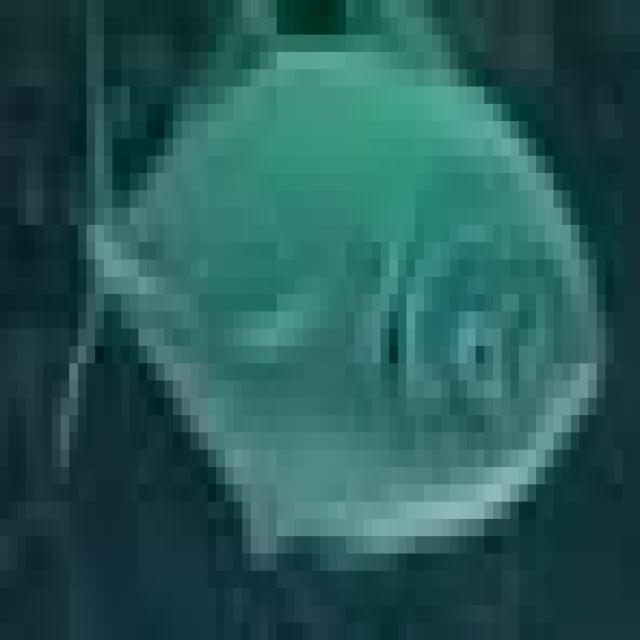fish: (8, 1, 640, 623)
